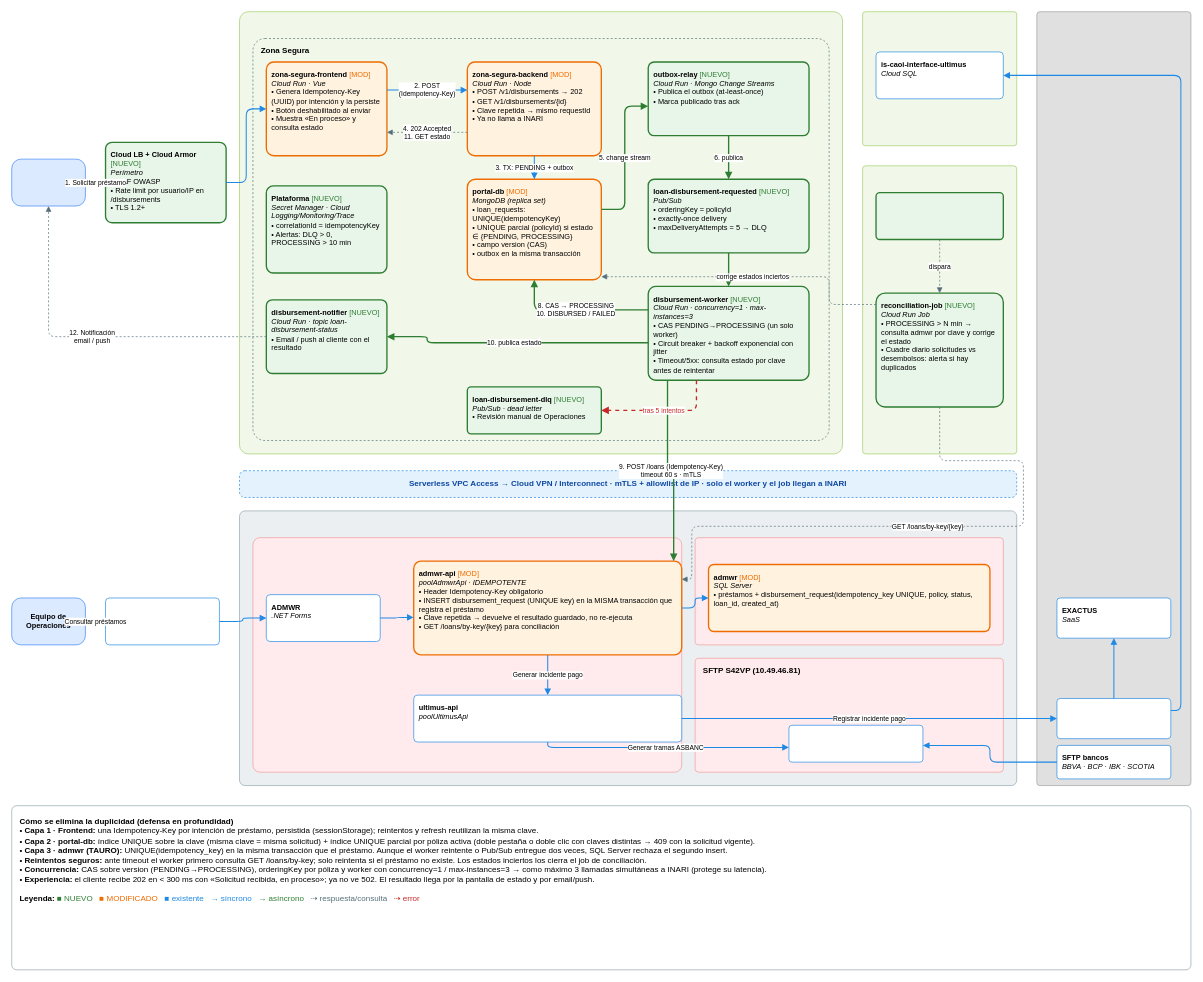
Some shapes in this 1203 by 982 pixel diagram are drawn without their labels. Here are the shapes that lost their labels. From the top down, the box of each, then its label:
(862, 11, 1017, 146): GCP-MVP
(11, 158, 85, 206): Clientes de Renta Particular
(239, 11, 843, 454): GCP · INTERSEGURO-ZONA-PRIVADA
(875, 192, 1004, 240): Cloud Scheduler [NUEVO] cada 10 min / diario
(862, 165, 1017, 454): Operación
(1036, 11, 1191, 786): EXTERNAL SAAS
(694, 537, 1003, 645): TAURO (10.49.46.80)
(105, 597, 219, 645): Proxy interseguro.pe/ADMWR
(252, 537, 682, 772): VMWARE INARI (10.49.46.79)
(239, 510, 1017, 786): IS-VCE (on-premise)
(1056, 698, 1171, 739): ULTIMUS SaaS
(788, 725, 923, 762): SFTP_ASBANC Carpeta compartida
